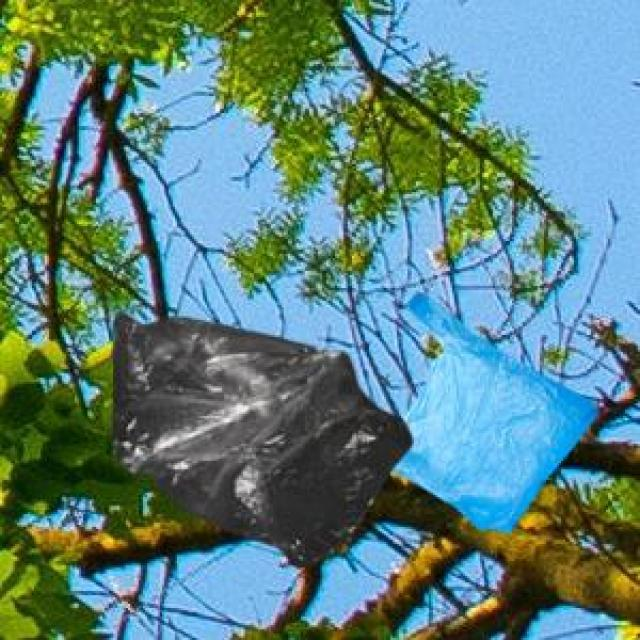waste: (114, 294, 595, 564)
